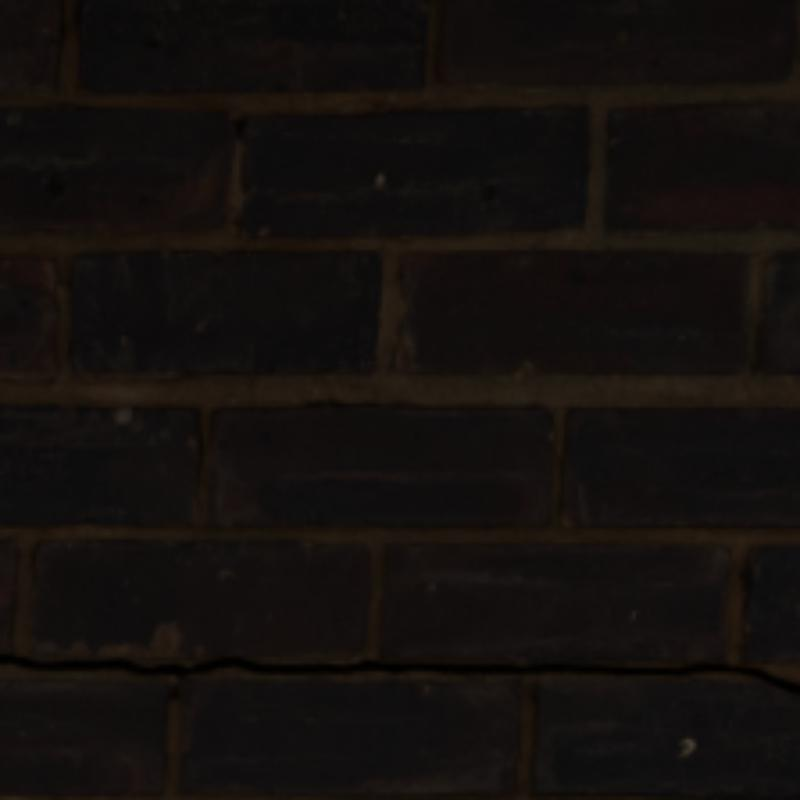pothole: (0, 654, 796, 693)
